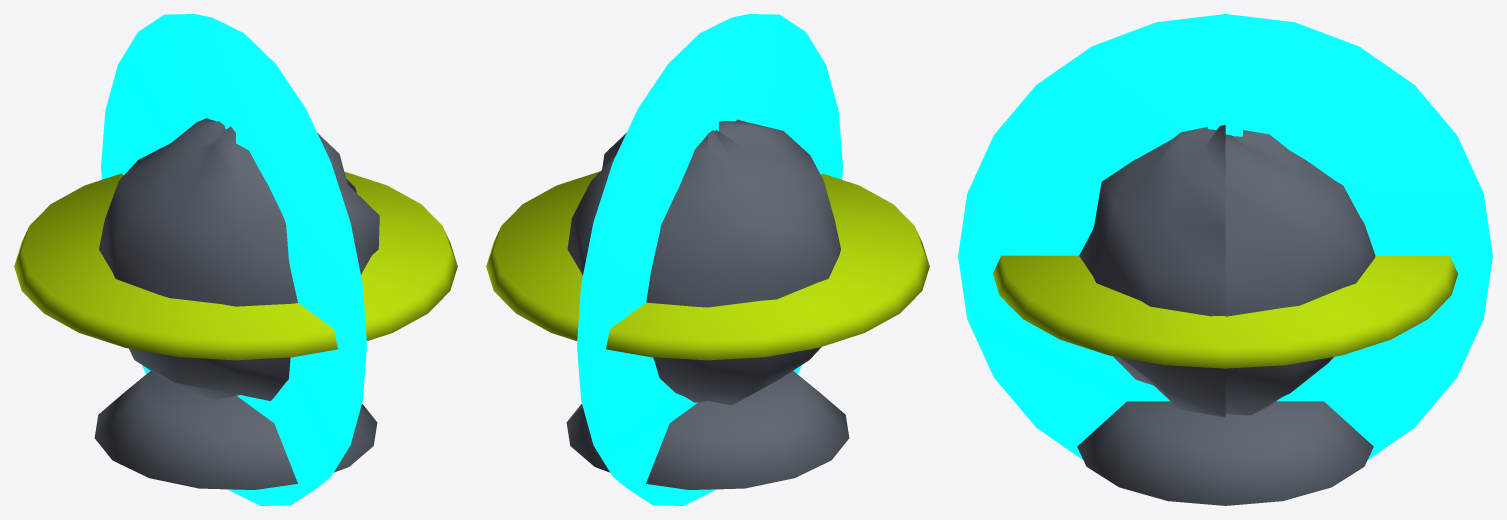
The model's file is 2bcc0d9f-cddb-48e1-9896-e91565bd8652.glb.
3 renders of one model, left to right at view 1: azimuth 30°, elevation 25°; view 2: azimuth 150°, elevation 25°; view 3: azimuth 270°, elevation 25°, orthographic. The views are drawn at different scales.
Visible parts, largest first — view 1: GeneratedObject3D; view 2: GeneratedObject3D; view 3: GeneratedObject3D.
Boxes of the visible parts, x1=… form: GeneratedObject3D: x1=14, y1=14, x2=457, y2=505; GeneratedObject3D: x1=486, y1=14, x2=929, y2=505; GeneratedObject3D: x1=958, y1=14, x2=1492, y2=505.
Bounding box in the file's own units: 2.8 × 3.2 × 3.2.
